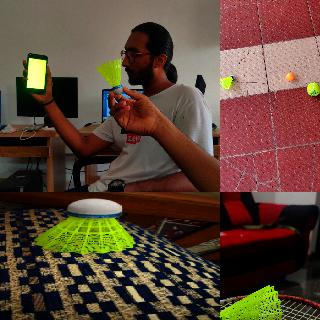shuttlecock: (33, 198, 136, 254), (220, 286, 282, 319), (96, 58, 122, 94), (220, 74, 235, 89)
